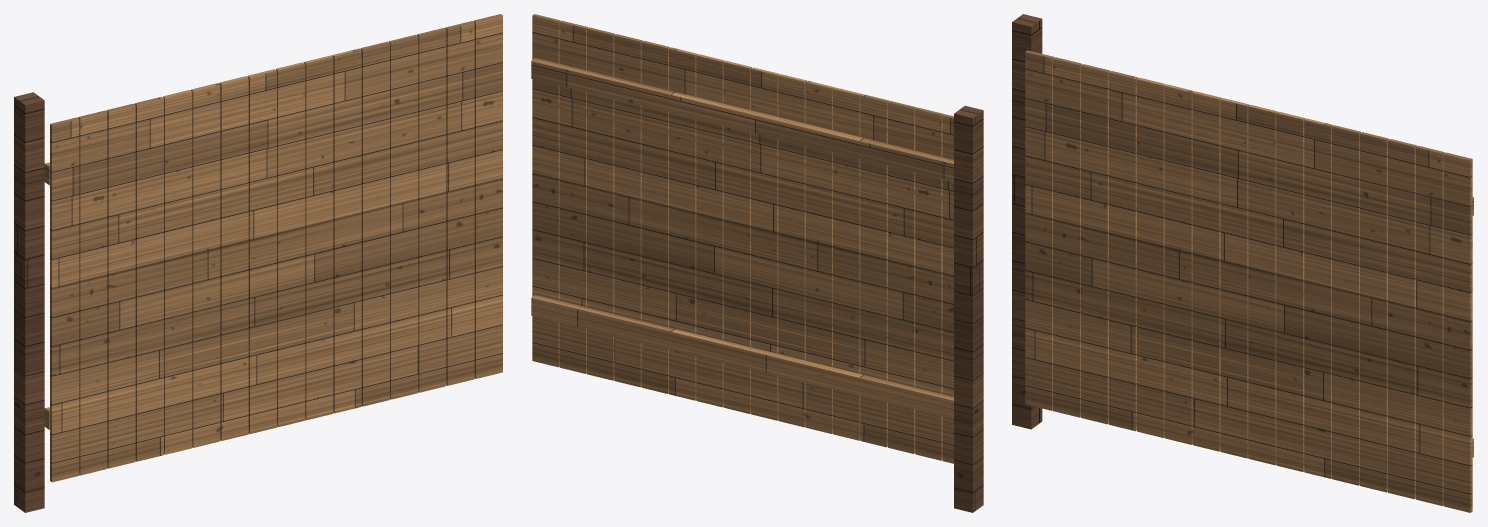
File: fence.glb
3 views of the same model, side by side, from view 1: azimuth 30°, elevation 25°; view 2: azimuth 150°, elevation 25°; view 3: azimuth 330°, elevation 25° (orthographic). The views are drawn at different scales.
Visible parts, largest first — view 1: fence_wood, fence_dkwood; view 2: fence_wood, fence_dkwood; view 3: fence_wood, fence_dkwood.
Part boxes in pixels (bbox=[...]): fence_wood: bbox=[44, 14, 502, 482]; fence_dkwood: bbox=[14, 92, 44, 512]; fence_wood: bbox=[531, 14, 953, 463]; fence_dkwood: bbox=[954, 105, 983, 512]; fence_wood: bbox=[1025, 50, 1473, 512]; fence_dkwood: bbox=[1012, 14, 1042, 429].
Bounding box in the file's own units: 2.42 × 2 × 0.16.
Materials: 2 (2 with a texture image).
